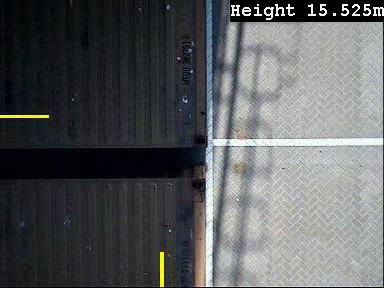groundmarker_2: (186, 176, 230, 256), (192, 7, 235, 87)
